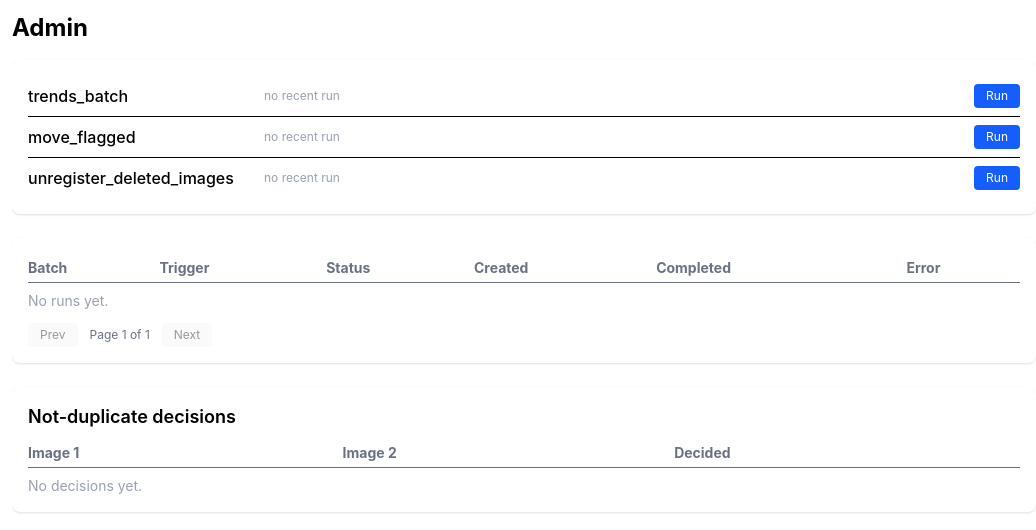
Test: AdminBatchesPage › shows an inline error for a 409 without affecting other rows
Expected: the text "trends_batch" is shown, top-left (28, 86), bottom-right (128, 106)
Click the button "Run" in the row of "trends_batch" at (997, 96), box top-left (974, 84), bottom-right (1020, 108)
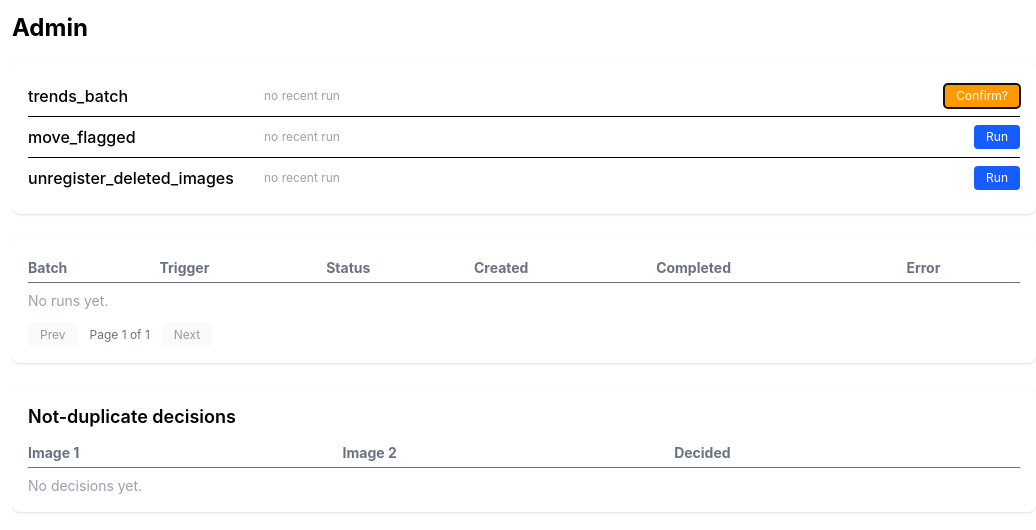
Click the button "Confirm?" at (982, 96), box top-left (944, 84), bottom-right (1020, 108)
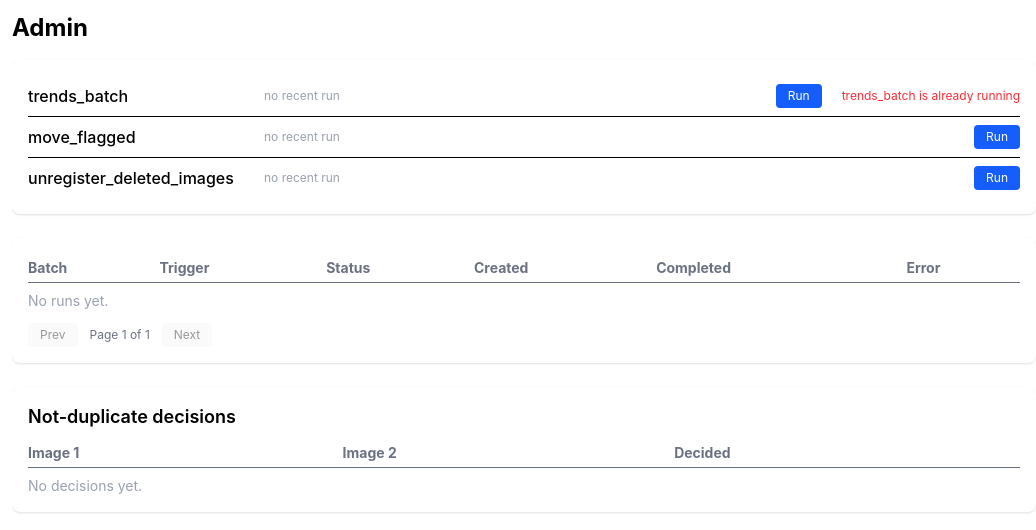
Expected: the number of buttons "Run" is 3, top-left (776, 84), bottom-right (822, 108); top-left (974, 125), bottom-right (1020, 149); top-left (974, 166), bottom-right (1020, 190)
Result: the text "trends_batch is already running" is shown at top-left (842, 88), bottom-right (1020, 104)
